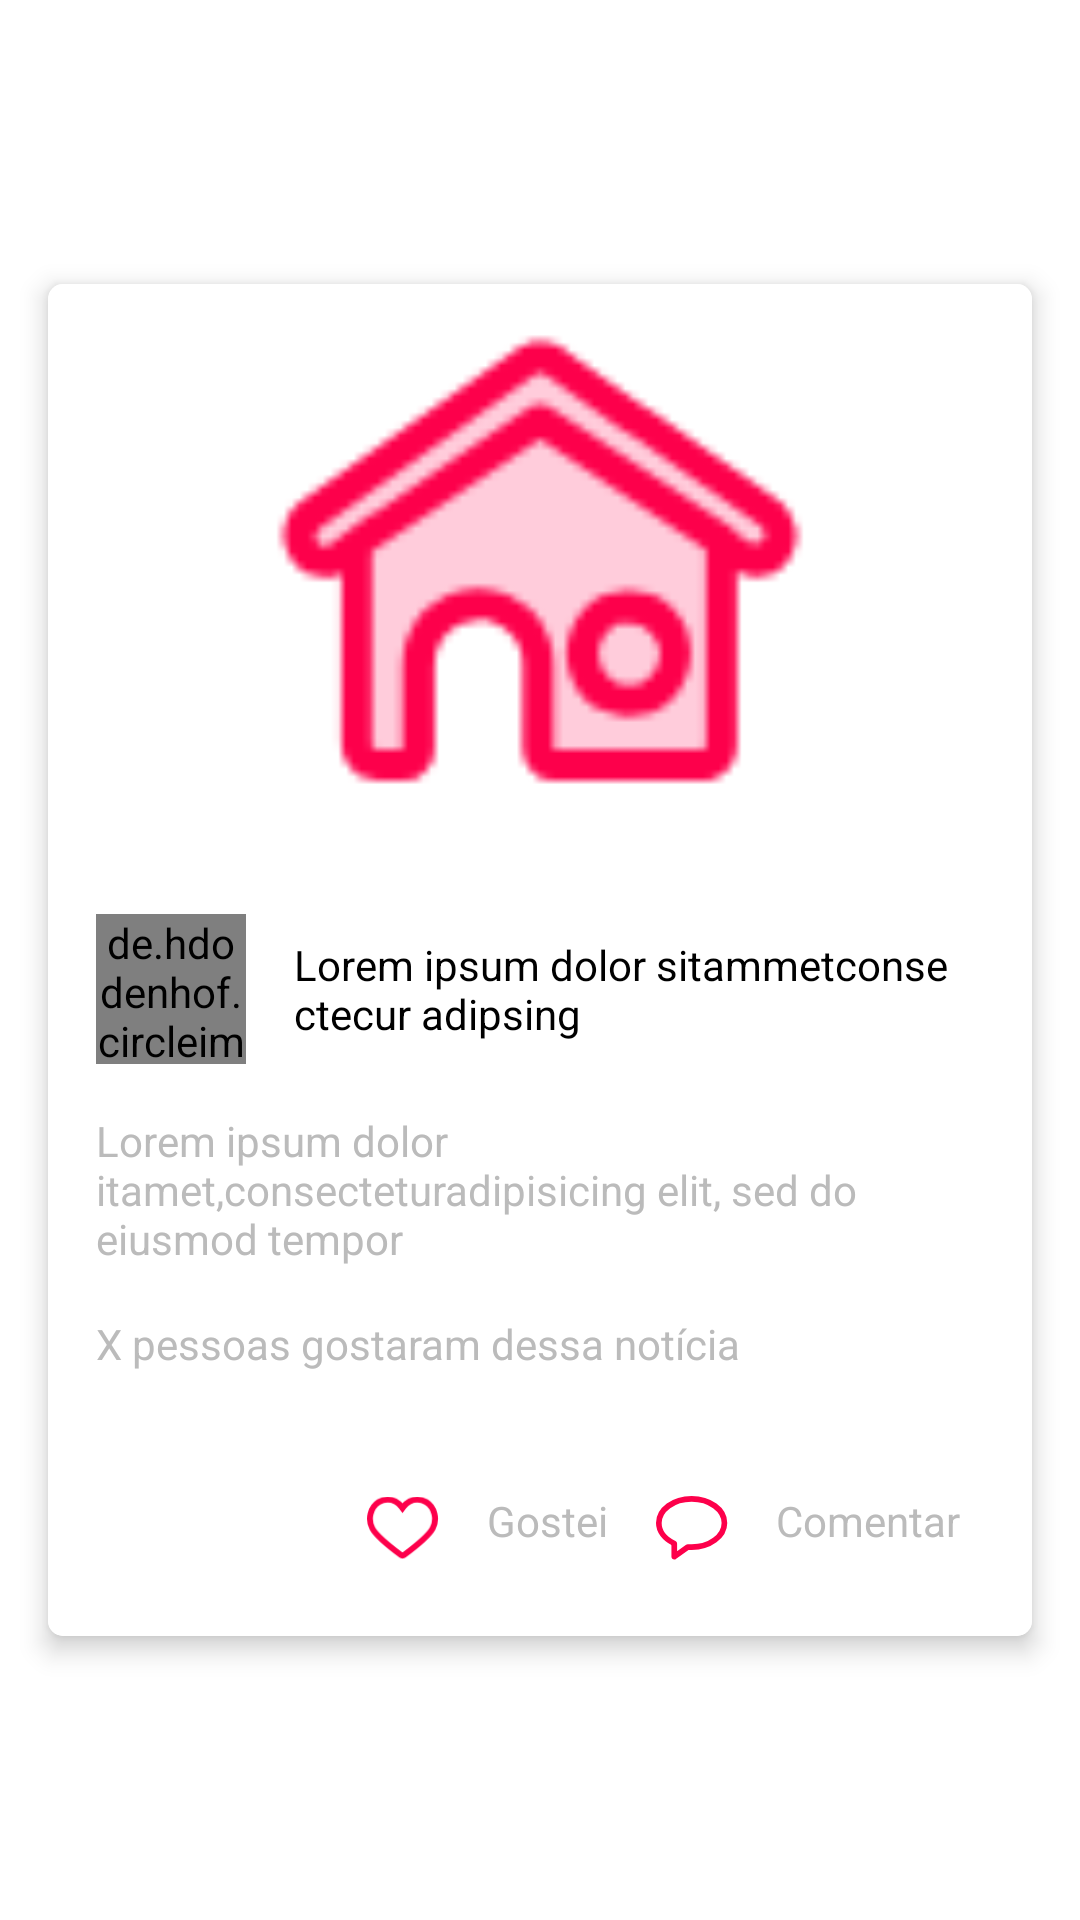

Locate icon controls on the screen. Image size 1080 × 1920, boxes as (x1, y1, x2, y2).
comment: (656, 1496, 728, 1560)
like: (367, 1497, 438, 1559)
